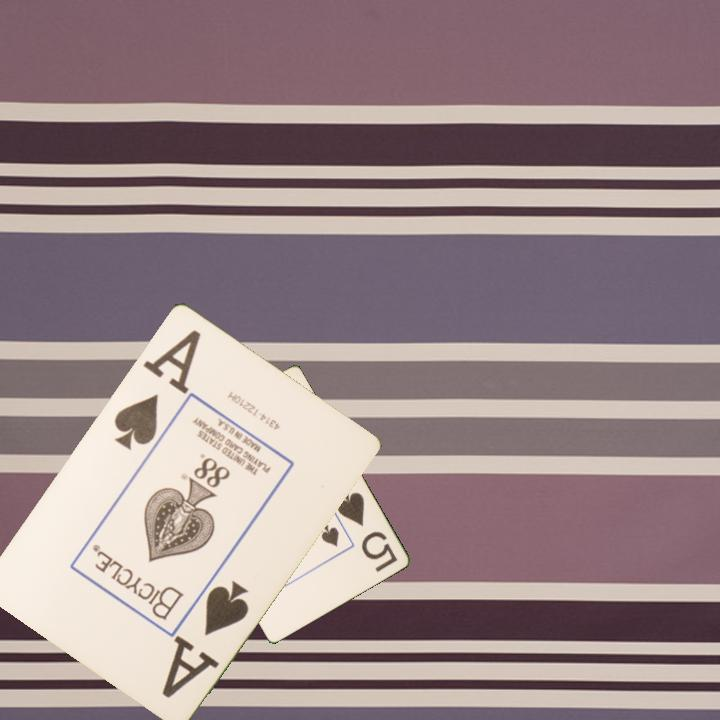5s: (333, 484, 400, 575)
As: (158, 576, 252, 701), (110, 337, 194, 452)
